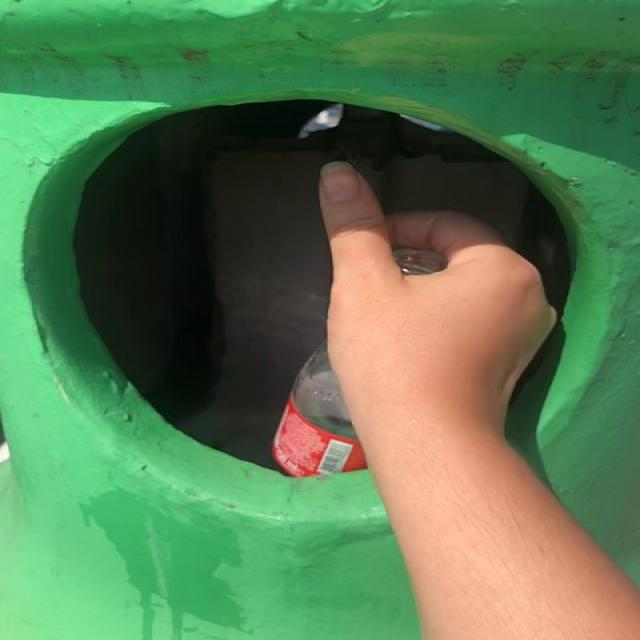glass: (272, 344, 367, 478), (393, 249, 447, 274)
